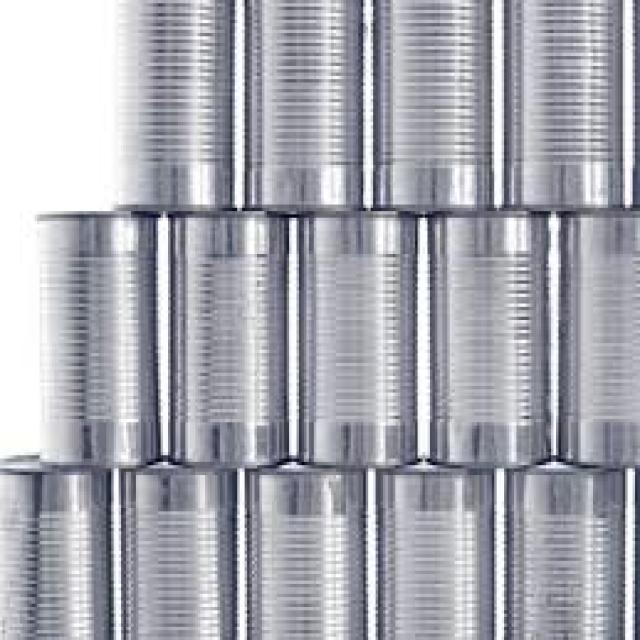metal: (425, 208, 549, 462), (166, 208, 287, 465), (35, 211, 158, 462), (297, 208, 415, 462), (242, 0, 361, 208), (502, 0, 620, 205), (373, 0, 489, 208), (116, 0, 232, 205), (119, 455, 237, 637), (556, 208, 638, 462), (376, 459, 492, 637), (504, 459, 620, 637), (247, 459, 361, 637), (0, 452, 109, 637)
